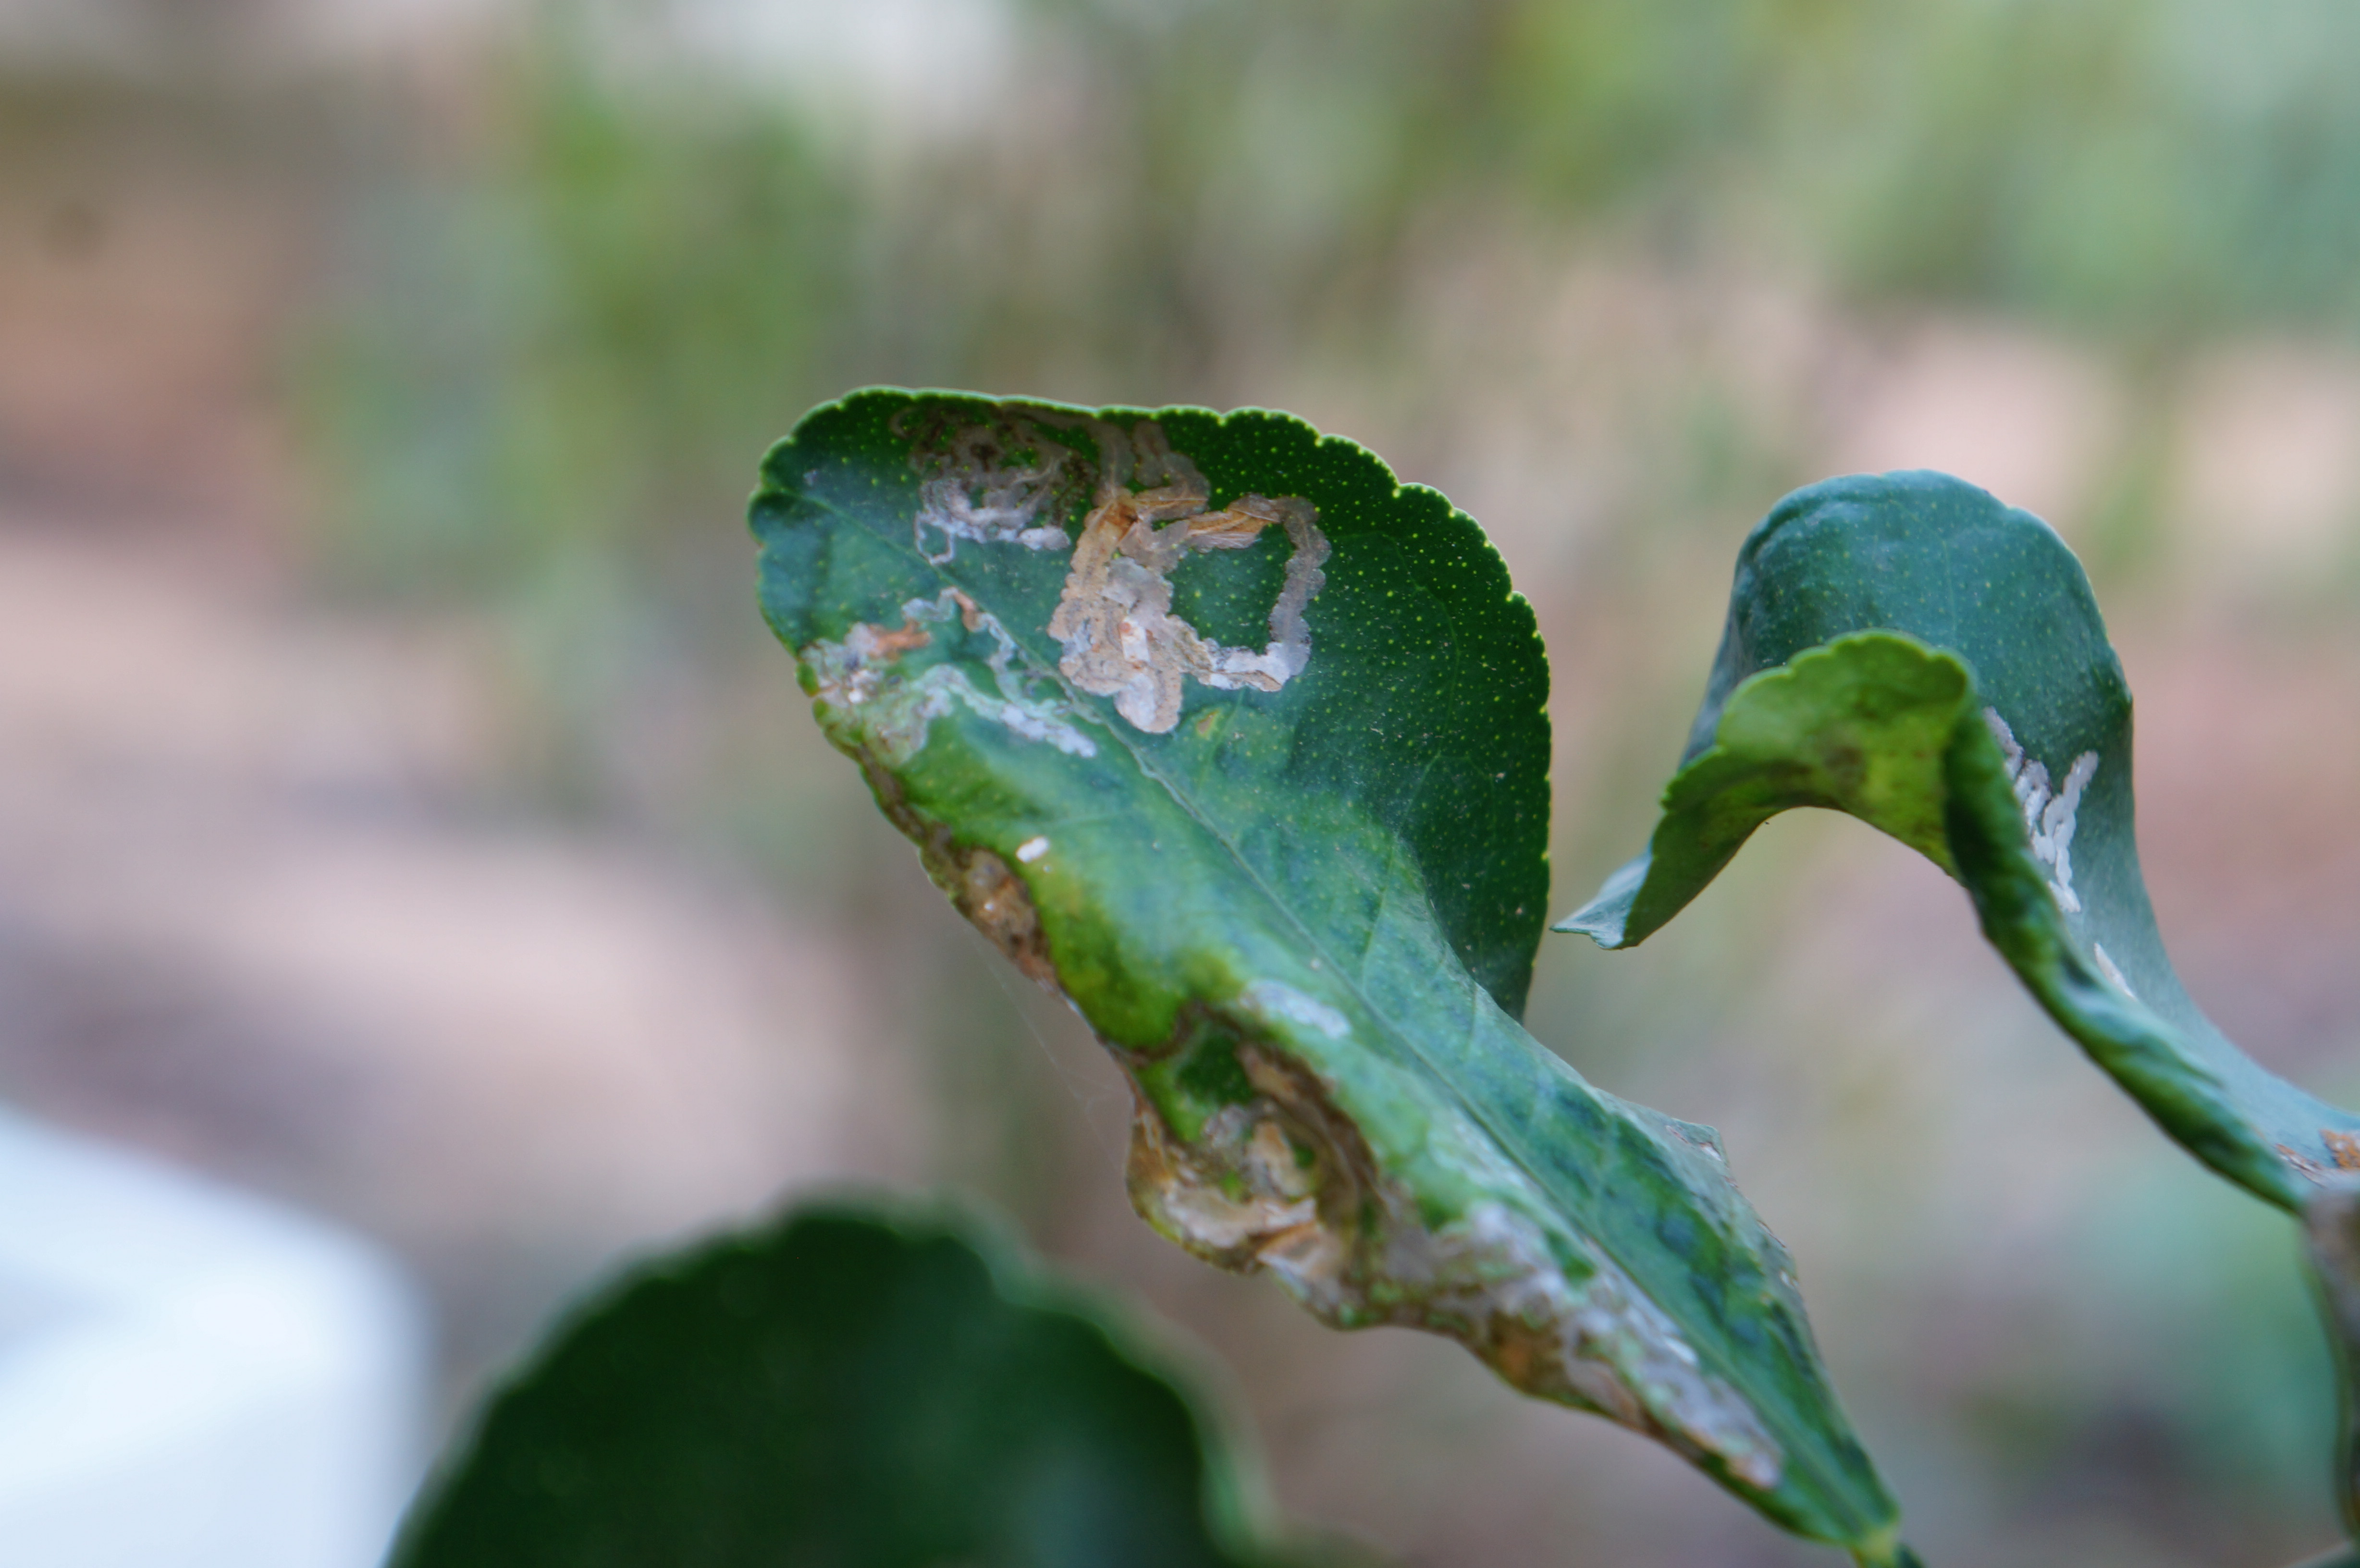curly: (1592, 621, 2334, 1232)
damage: (899, 815, 1828, 1512), (799, 388, 1386, 754)
